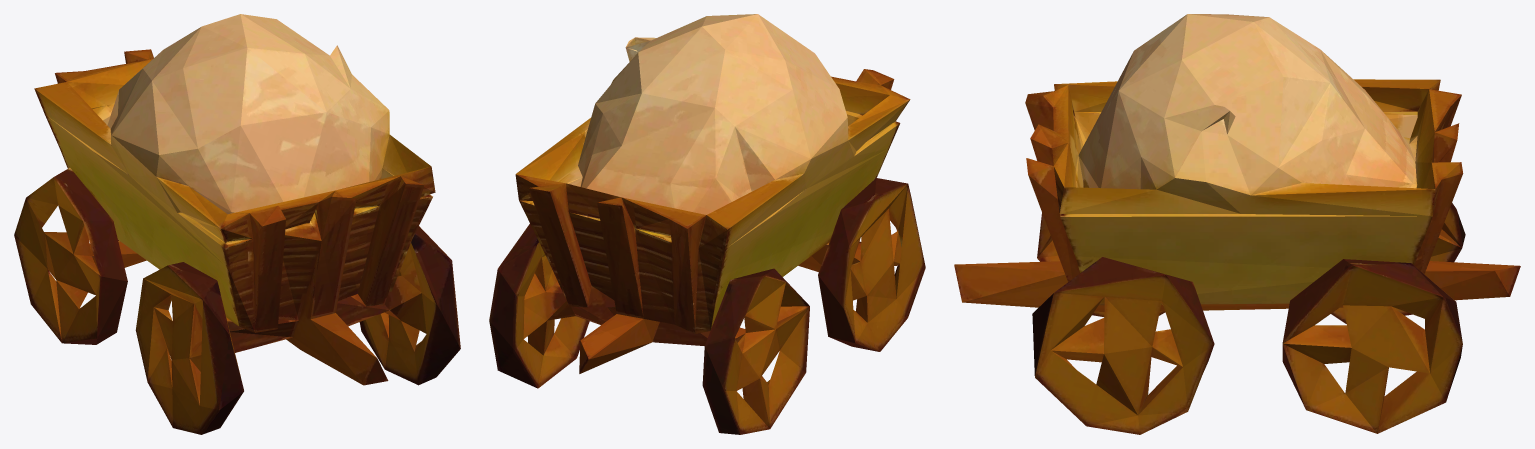
Rendered from wooden_cart.glb.
3 renders of one model, left to right at view 1: azimuth 30°, elevation 25°; view 2: azimuth 150°, elevation 25°; view 3: azimuth 270°, elevation 25°, orthographic. The views are drawn at different scales.
Size of the model in its own units: 1.01 by 1.36 by 1.97.
1 material, 1 textured.
